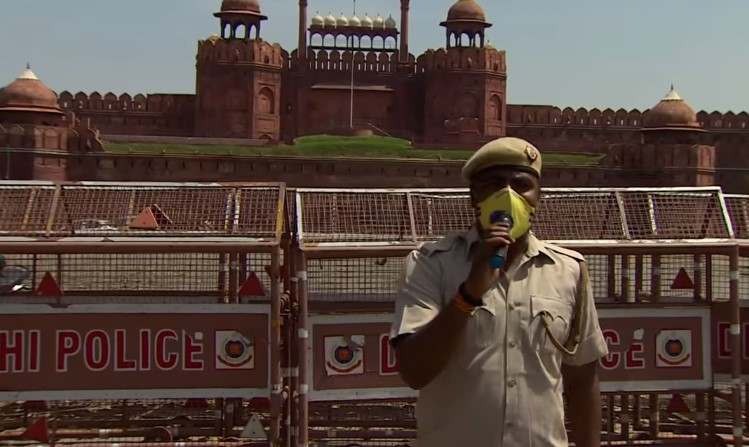face_with_mask: (461, 137, 540, 250)
